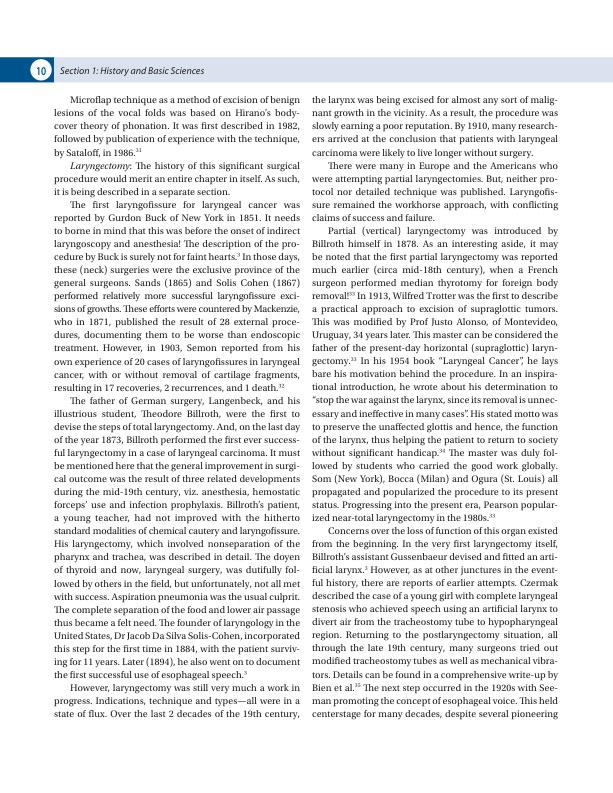header: (59, 66, 205, 76)
text: (309, 92, 560, 722), (51, 92, 302, 720)
